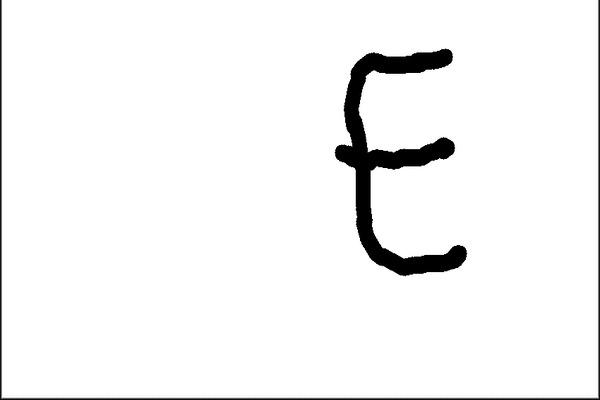E: (329, 42, 477, 281)
